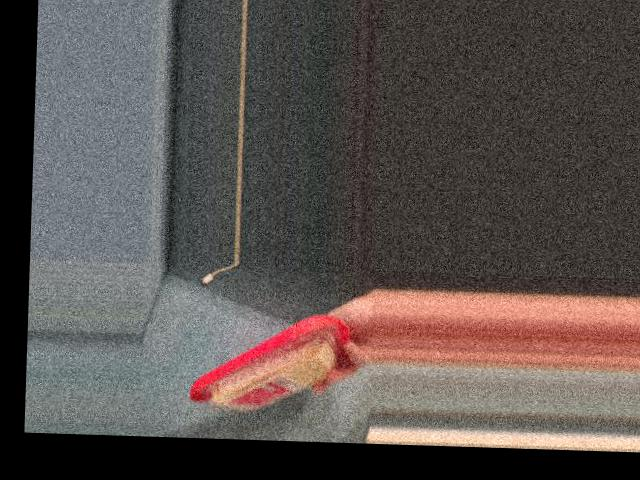cheese: (187, 305, 357, 418)
